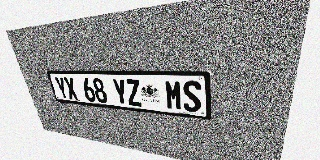6: (80, 78, 97, 102)
8: (91, 78, 108, 103)
M: (164, 80, 183, 111)
S: (182, 80, 201, 113)
X: (63, 77, 79, 100)
Y: (111, 78, 129, 105), (54, 77, 69, 99)
Z: (125, 79, 143, 107)
